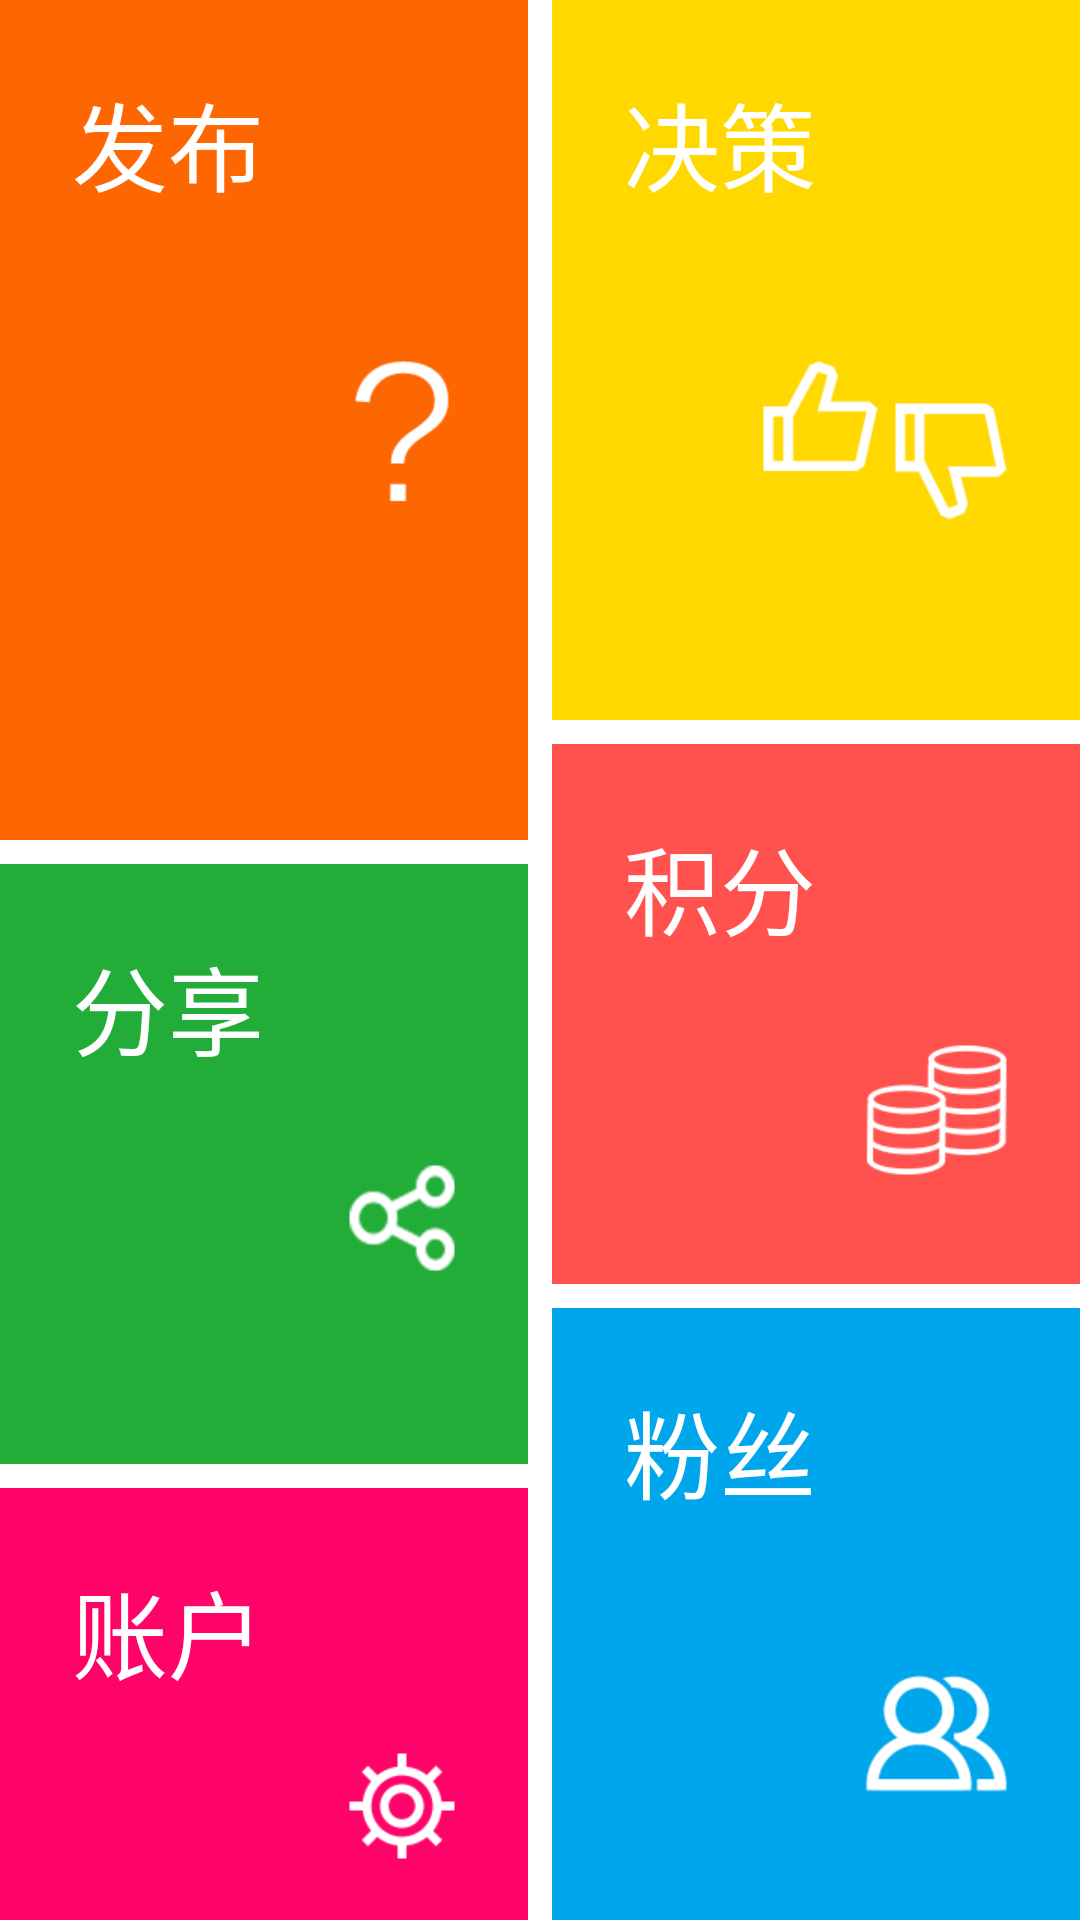

Icons on this 1080 × 1920 Android screen, each with its box as (x1, y1, x2, y2):
bonus: (866, 1045, 1007, 1175)
fans: (865, 1675, 1007, 1792)
share: (349, 1165, 455, 1271)
